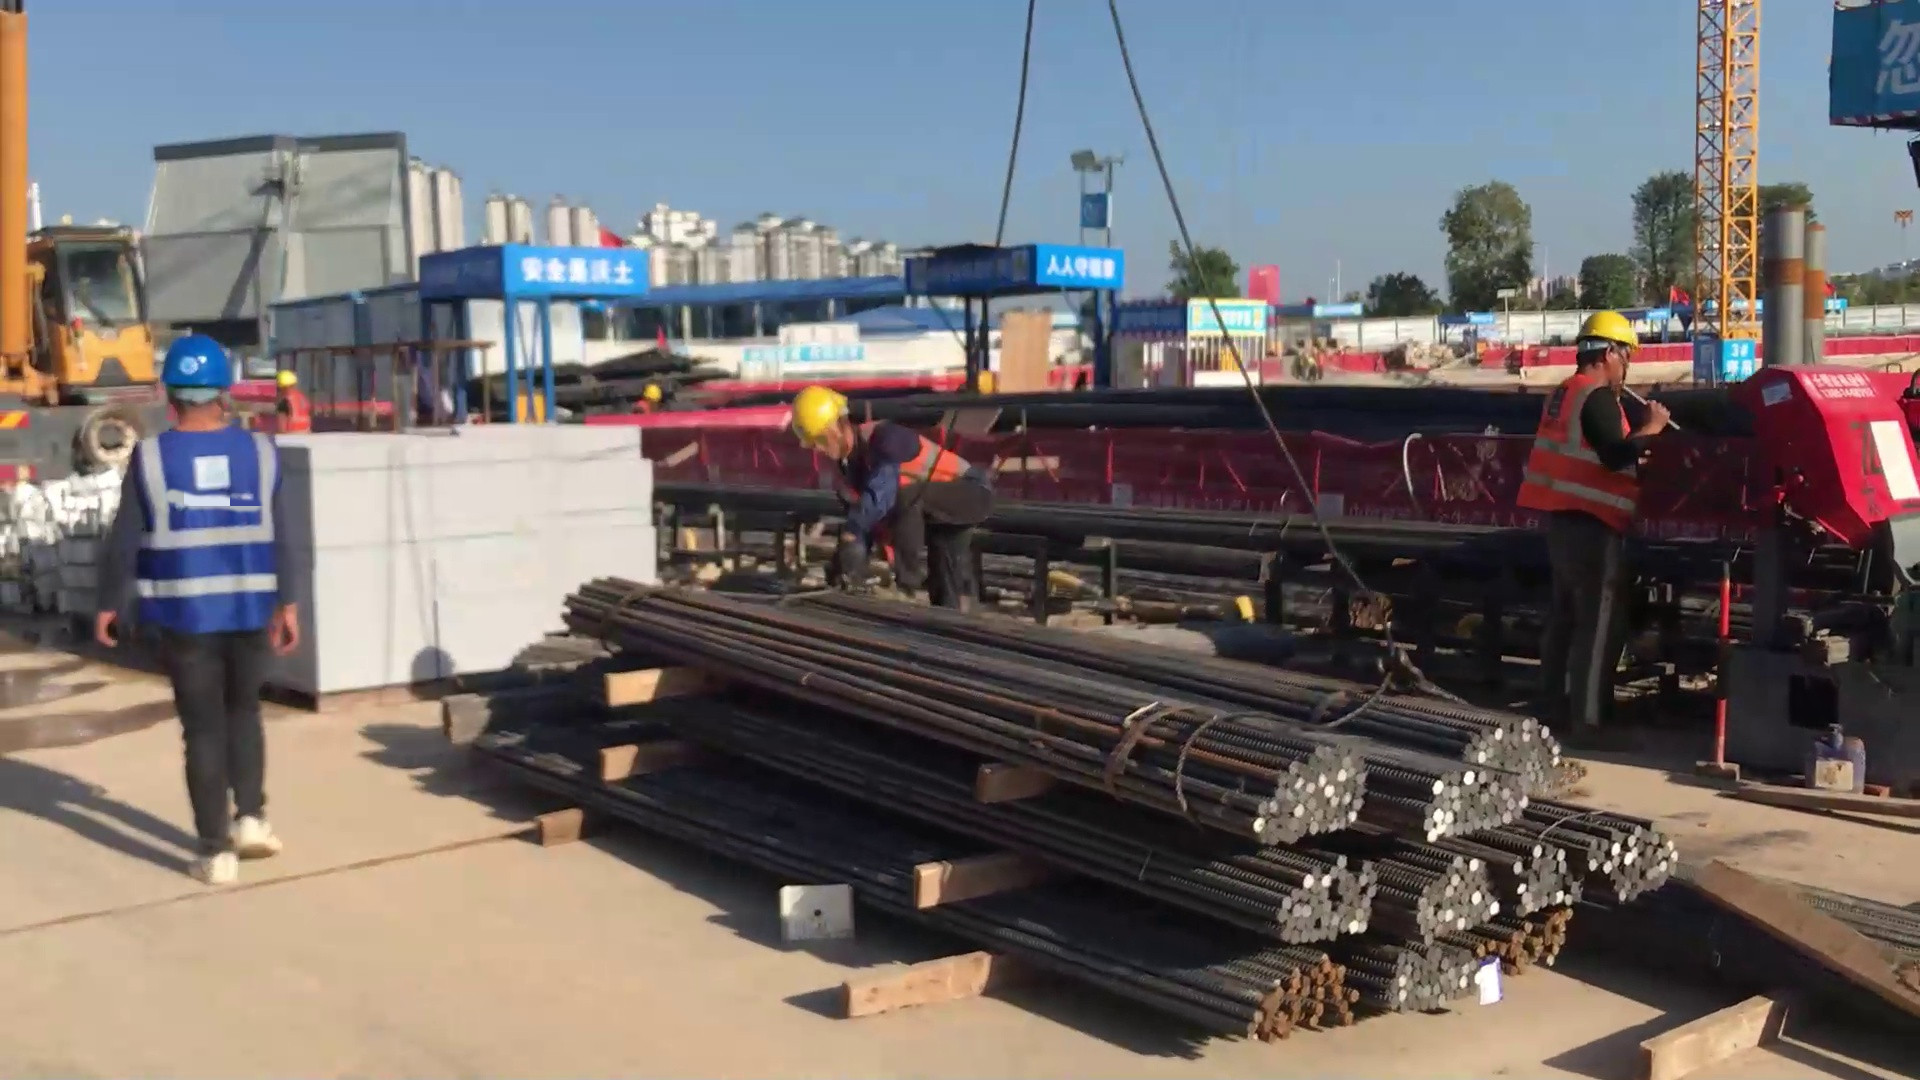brick: (279, 409, 660, 707)
helmet: (161, 331, 240, 401), (784, 380, 852, 451), (1576, 307, 1639, 362)
person: (82, 323, 324, 901), (1511, 299, 1656, 760), (774, 370, 1008, 626)
rebar: (538, 562, 1369, 847), (586, 759, 1367, 1045), (686, 693, 1384, 945), (1065, 621, 1576, 812), (1296, 738, 1538, 847), (1484, 788, 1681, 919), (1374, 926, 1510, 1031), (1453, 826, 1584, 933), (1384, 843, 1510, 952), (1493, 895, 1576, 983)
slogan: (1821, 3, 1920, 128), (506, 238, 650, 296), (1036, 239, 1122, 287), (742, 341, 871, 371)
vest: (131, 418, 290, 641), (1519, 367, 1644, 539), (813, 417, 982, 507)
